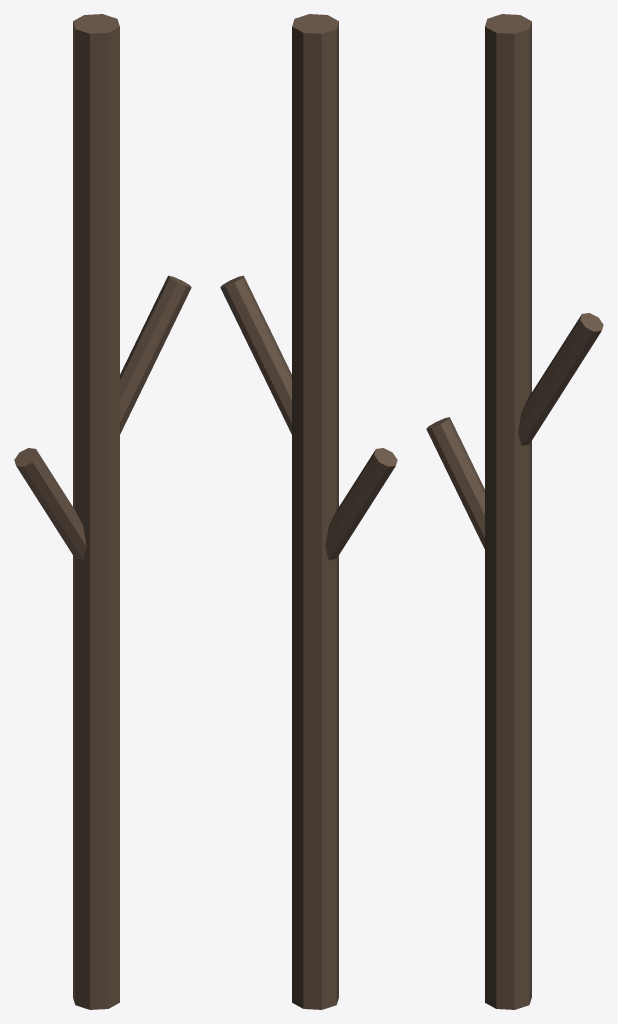
File: Isl_17_Tree_1.fbx
3 views of the same model, side by side, from view 1: azimuth 30°, elevation 25°; view 2: azimuth 150°, elevation 25°; view 3: azimuth 330°, elevation 25° (orthographic).
Visible parts, largest first — view 1: Isl_17_Tree_1; view 2: Isl_17_Tree_1; view 3: Isl_17_Tree_1.
Boxes of the visible parts, left/top/right/bottom form: Isl_17_Tree_1: left=14, top=14, right=191, bottom=1009; Isl_17_Tree_1: left=220, top=14, right=397, bottom=1009; Isl_17_Tree_1: left=426, top=14, right=603, bottom=1009.
Size of the model in its own units: 89.88 by 21.8 by 482.
1 material, 1 textured.
